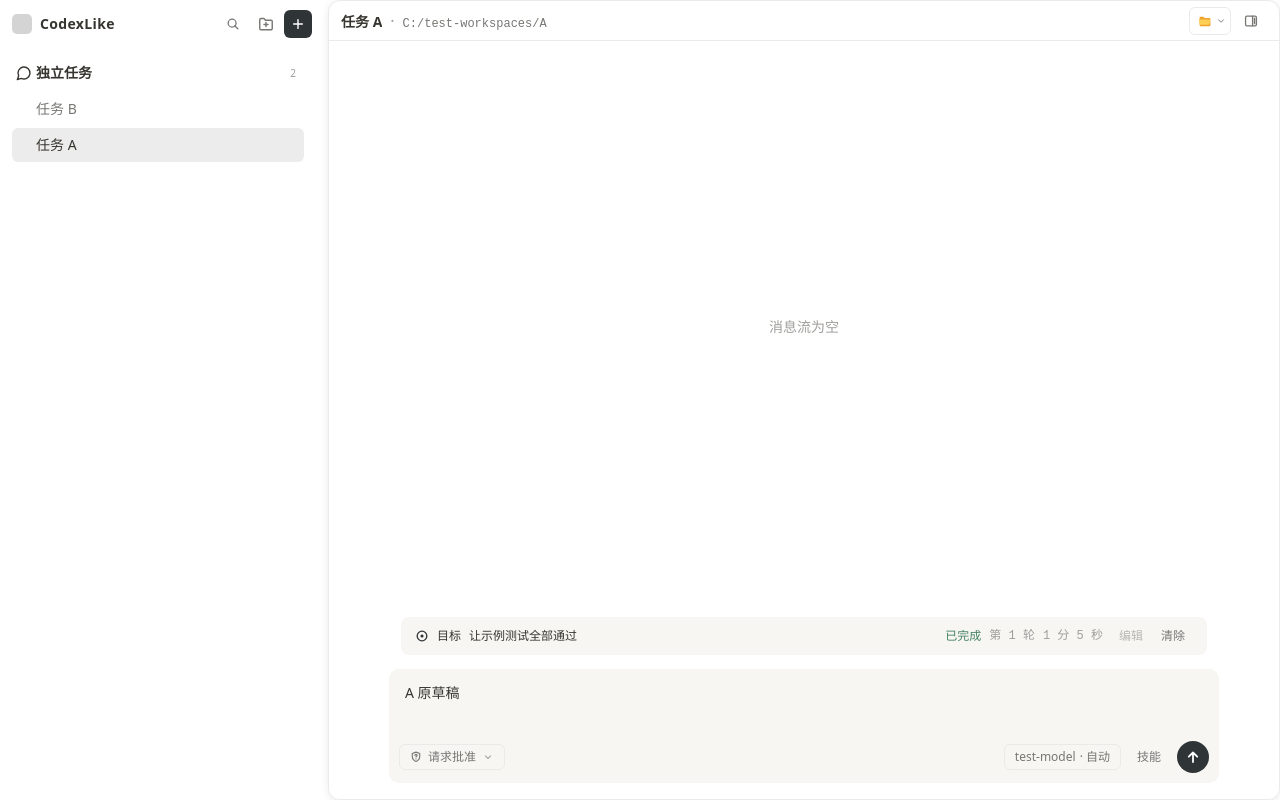
Test case: WorkspacePage 目标模式接线（ADR 0035） › 进度行随任务恢复：有目标任务显示摘要 / 状态 / 累计时长，切到无目标任务不渲染
Expected: the text box with test id "composer-input" holds "A 原草稿", [389,669,1219,735]
Expected: the text with test id "goal-progress-summary" reads "让示例测试全部通过", [469,627,577,644]
Click the button with test id "task-item" showing "任务 B" at (56, 108), box [34,92,304,126]
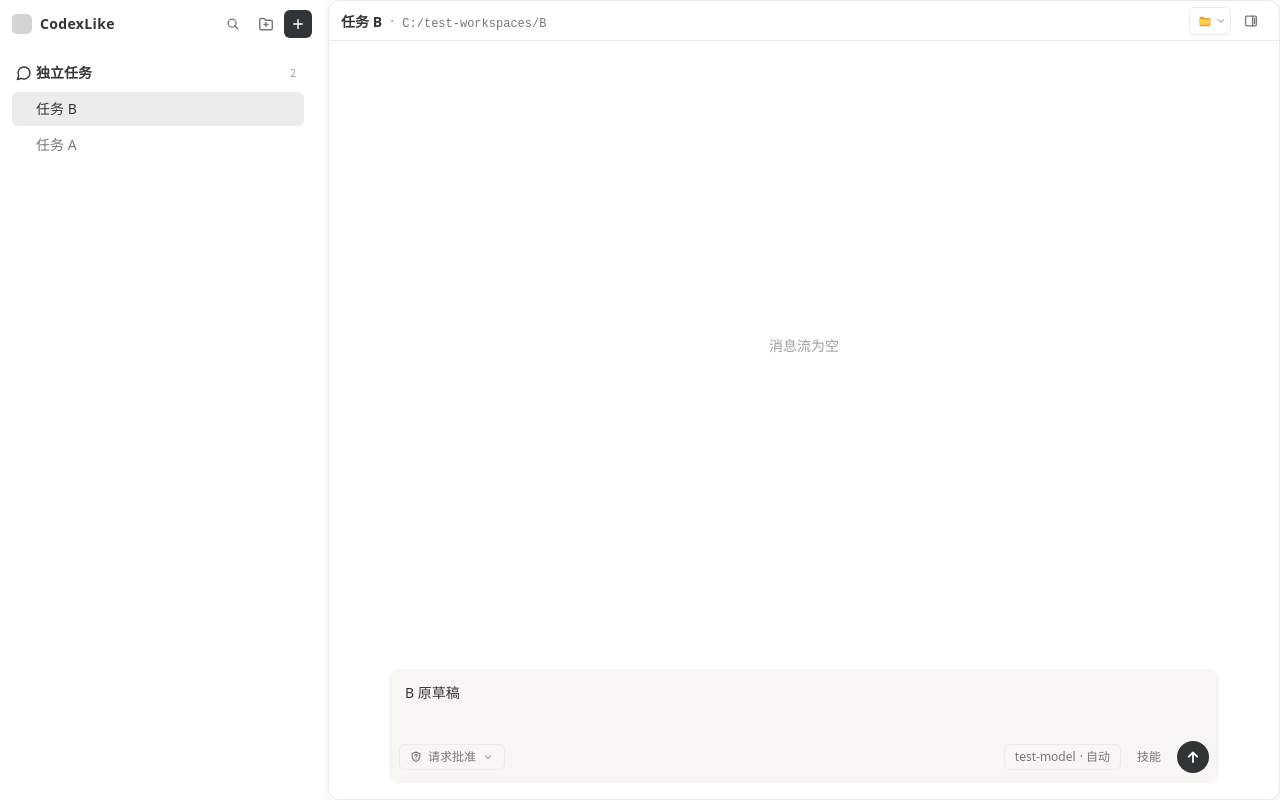
Result: the text box with test id "composer-input" holds "B 原草稿" at [389,669,1219,735]
Result: the element with test id "goal-progress-row" is gone
